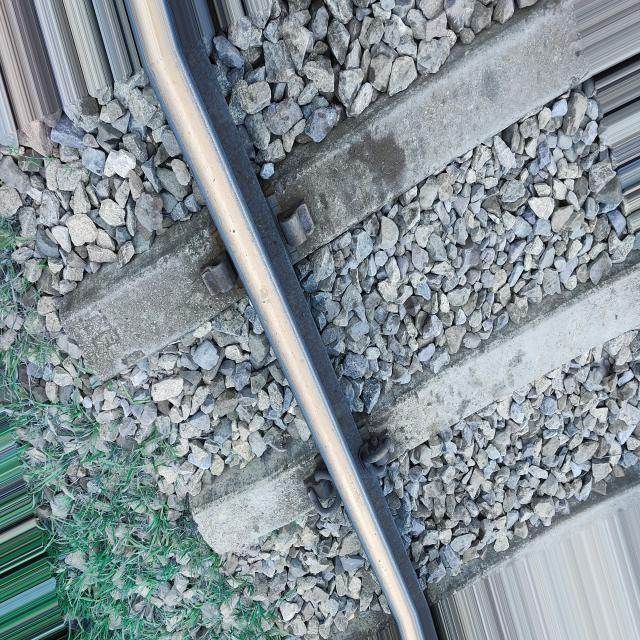Good Fasteners: (350, 406, 406, 489), (286, 464, 345, 526)
Missing Fastener: (267, 186, 342, 262), (172, 235, 242, 310)
